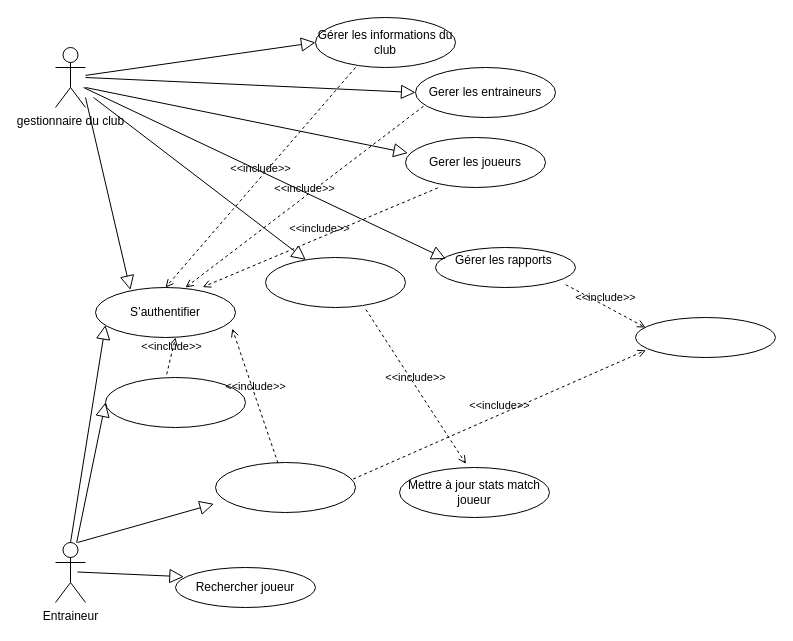
Some shapes in this 793 by 641 pixel diagram are drawn without their labels. Here are the shapes that lost their labels. From the top down, the centre of each, then its label:
At point (335, 282): "Enregister un match".
At point (705, 337): "Calculer statistiques joueur".
At point (175, 402): "Consulter la liste des joueurs".
At point (285, 487): "Consulter la fiche du joueur".
